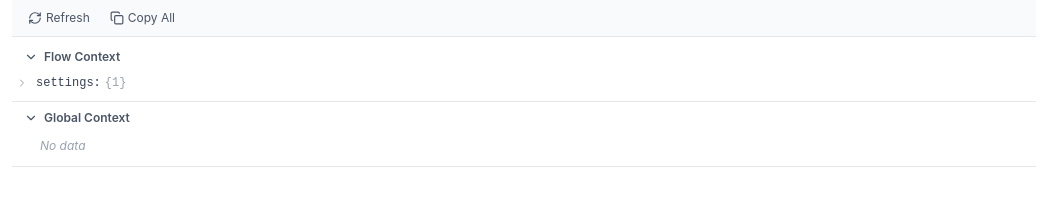
Scenario: ContextTab › expand/collapse › collapses an expanded object when clicking again
What coordinates should you click on to do the following:
click the button with test id "context-tree-toggle-settings"
I would click on:
 (65, 83)
Its box is [12, 73, 1036, 93].
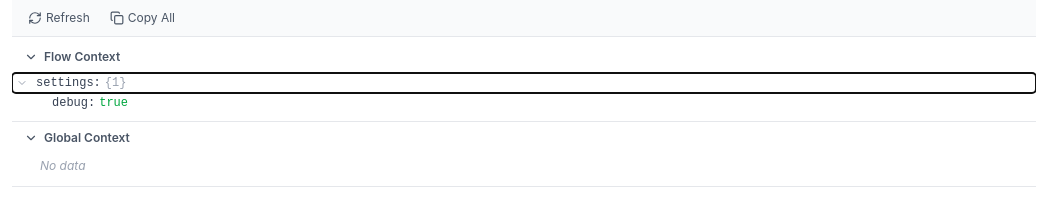
Result: the text "true" is shown at [99, 95, 128, 111]
What coordinates should you click on to do the following:
click the button with test id "context-tree-toggle-settings"
I would click on:
 (65, 83)
Its box is [12, 73, 1036, 93].
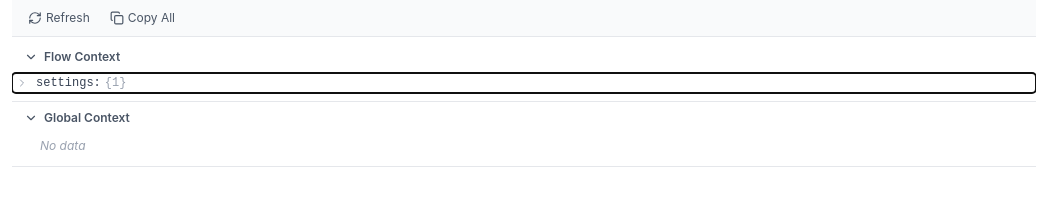
Result: the text "debug:" is gone
